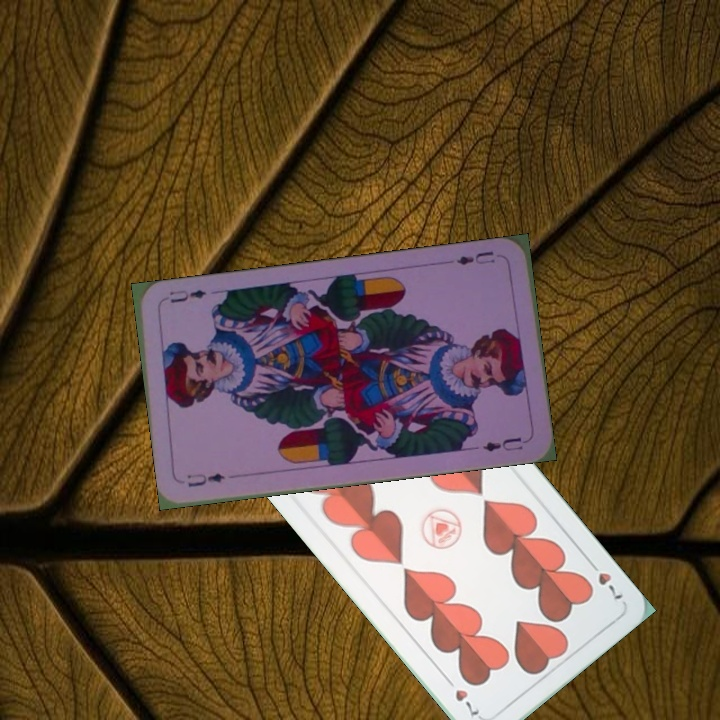EU: (182, 469, 228, 490), (452, 247, 497, 268)
H7: (583, 555, 626, 605)
